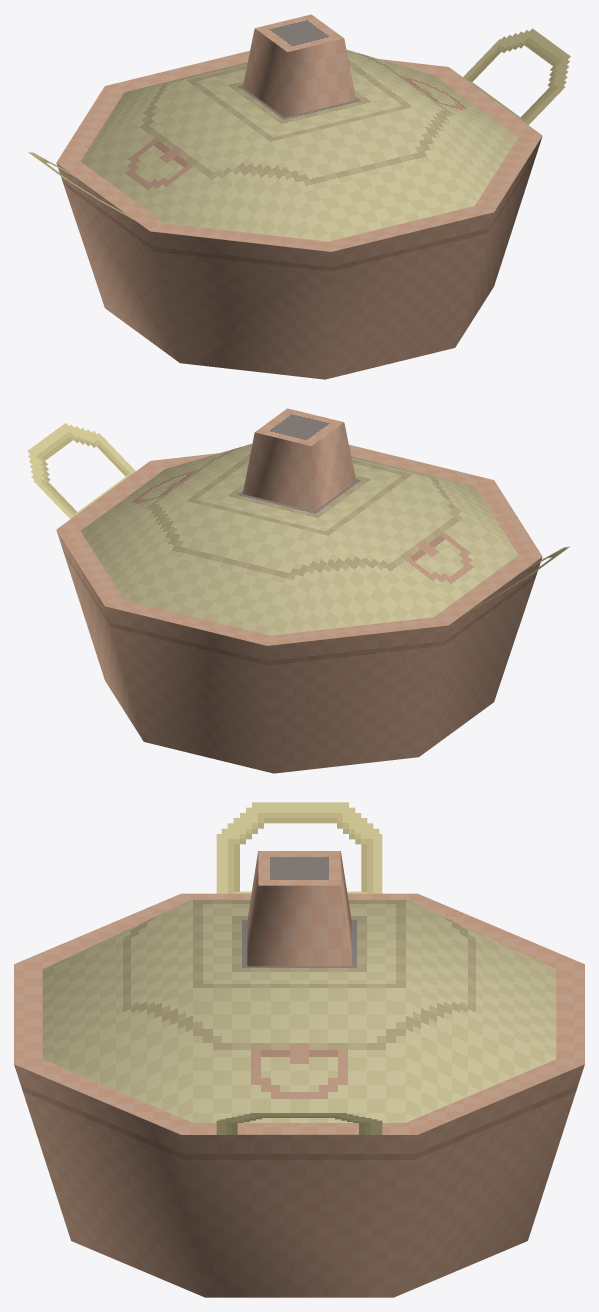
Rendered from 0155_Shabu-Shabu_Pot.glb.
The picture shows the model from 3 angles, top to bottom: view 1: azimuth 30°, elevation 25°; view 2: azimuth 150°, elevation 25°; view 3: azimuth 270°, elevation 25°; orthographic projection. The views are drawn at different scales.
Parts seen in each view (by area): view 1: part_0; view 2: part_0; view 3: part_0.
Boxes of the visible parts, <box> form: part_0: <box>28,14,570,379</box>; part_0: <box>27,408,569,773</box>; part_0: <box>14,802,584,1297</box>.
Bounding box in the file's own units: 0.5137 × 0.2566 × 0.3991.
Materials: 1 (1 with a texture image).
